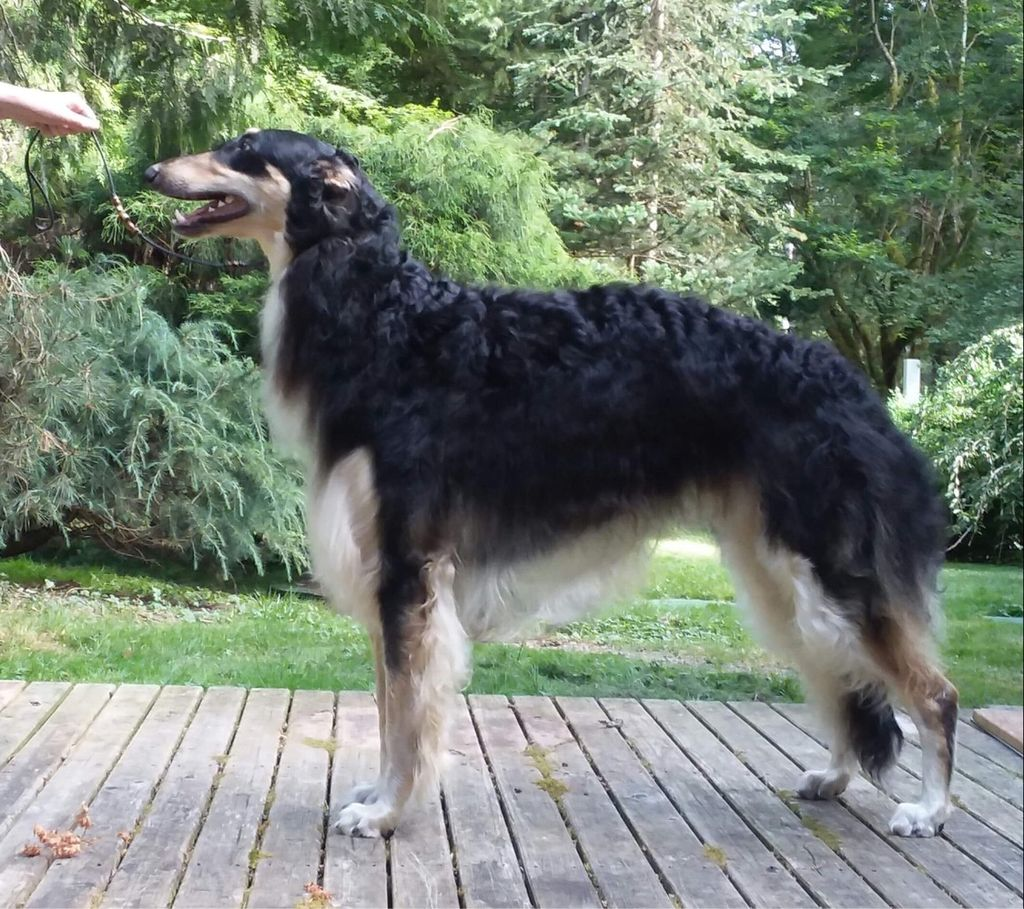borzoi: (126, 123, 973, 852)
